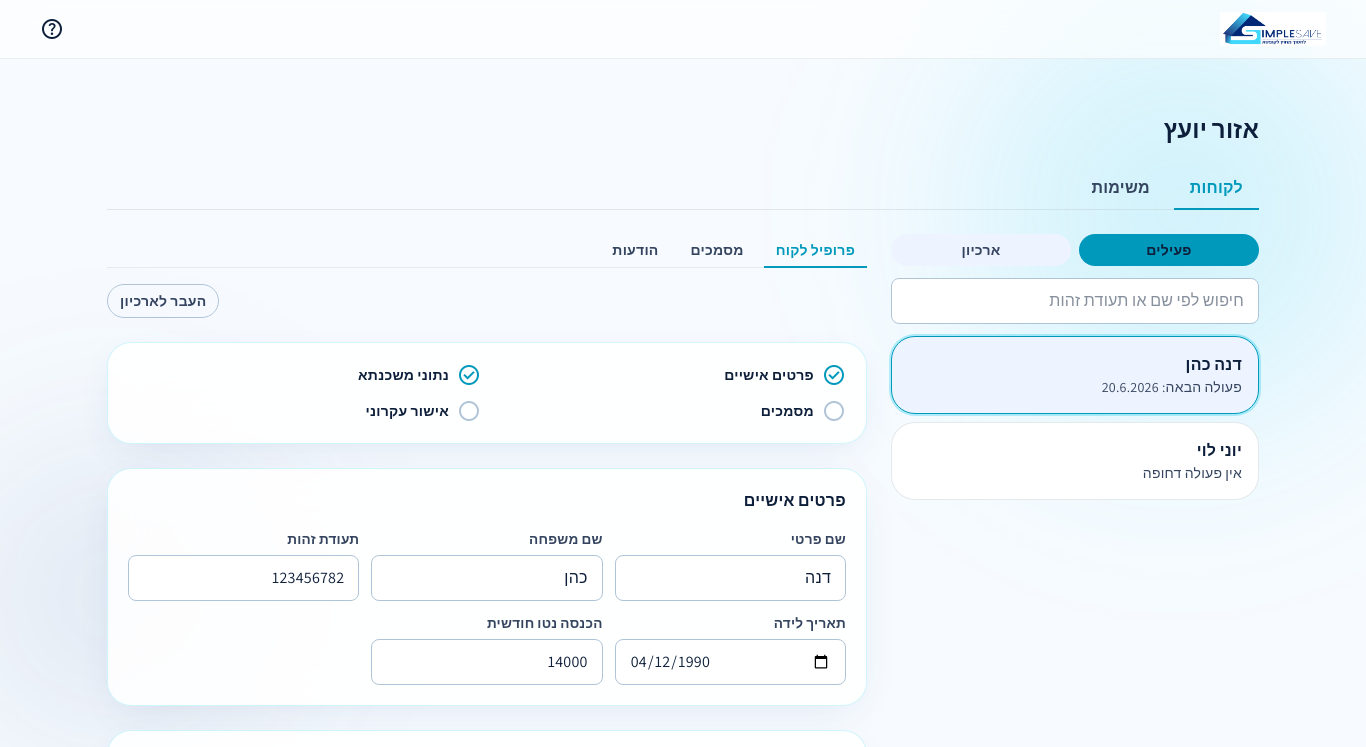
Test: AdvisorScreen › shows the message thread for the selected client on the הודעות tab
Click the button "הודעות": (635, 251) [600,234,670,268]
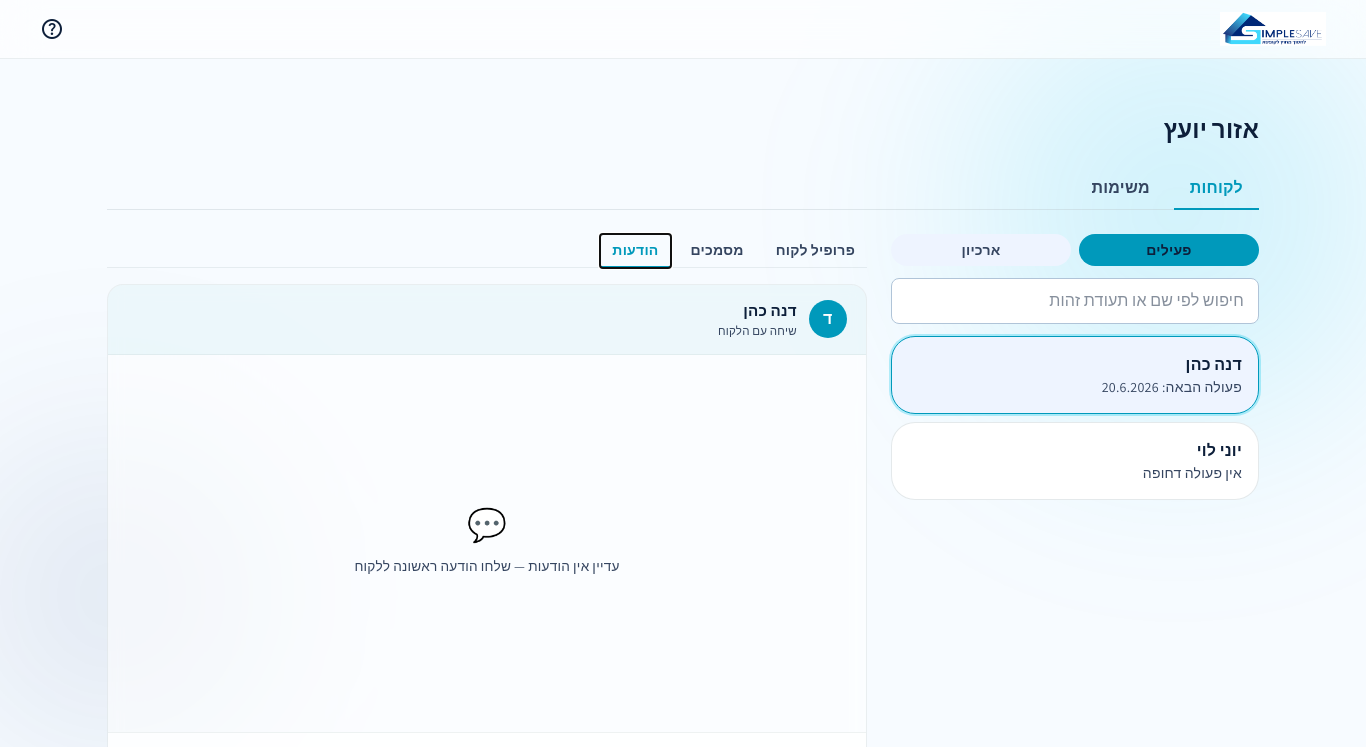
Expected: the text "עדיין אין הודעות — שלחו הודעה ראשונה ללקוח" is shown, [354,557,620,575]
